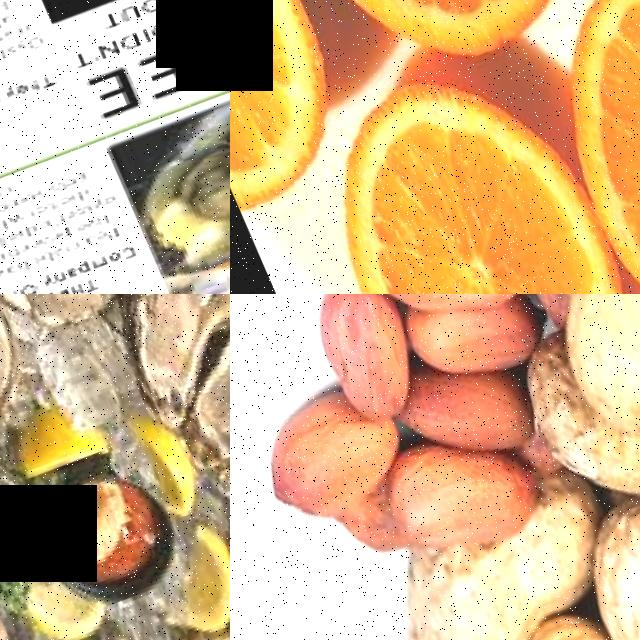orange: (292, 34, 640, 294), (230, 0, 640, 114), (516, 0, 640, 294), (230, 0, 375, 221)
oysters: (122, 3, 230, 294), (93, 294, 230, 398), (170, 294, 230, 499), (0, 294, 140, 345)
peanuts: (375, 410, 552, 574), (241, 377, 392, 541), (361, 518, 532, 640), (292, 294, 434, 432), (536, 294, 640, 457), (561, 443, 640, 640), (413, 294, 554, 395), (348, 294, 521, 340)
